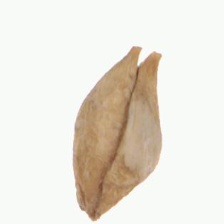L1: (129, 44, 162, 84), (75, 184, 105, 220)
L2: (71, 47, 162, 220)
